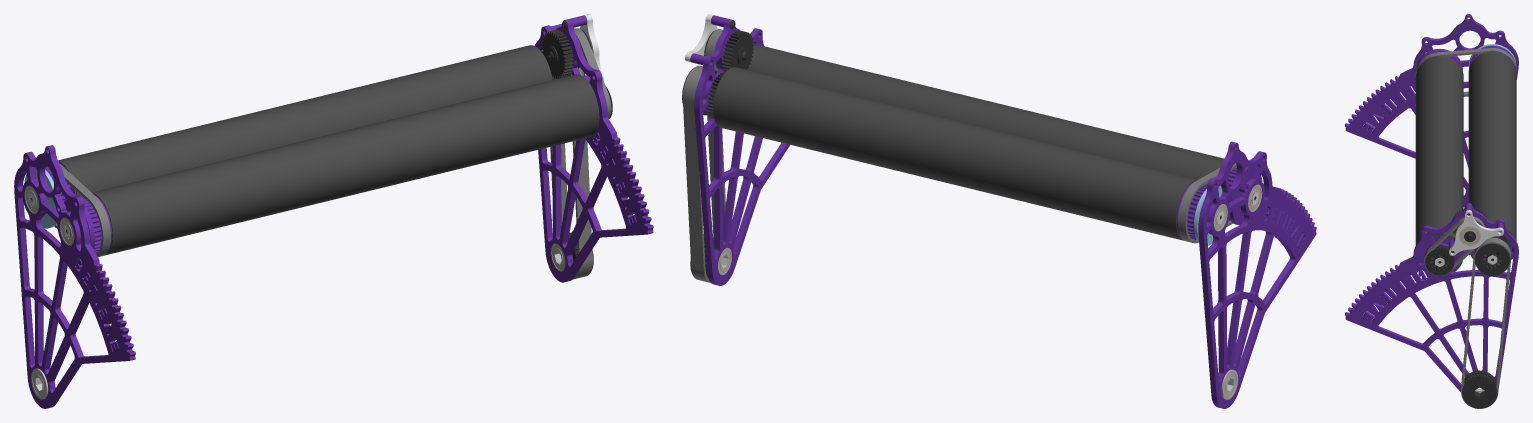
3 views of the same model, side by side, from view 1: azimuth 30°, elevation 25°; view 2: azimuth 150°, elevation 25°; view 3: azimuth 270°, elevation 25° (orthographic). The views are drawn at different scales.
Visible parts, largest first — view 1: WCP-1279 (×2), 0403 - Hood Right (×2), 0410 - Belt 100T, 36t Steel Spur Gear (20 DP, 1/2" Hex Bore), 0410 - Belt 64t P36, 36t Custom HTD 5mm Pulley (0.63" Wide, 1/2" Hex Bore w/ WCP , 0410 - Belt 45t; view 2: WCP-1279 (×2), 0403 - Hood Right (×2), 0410 - Belt 100T, 36t Steel Spur Gear (20 DP, 1/2" Hex Bore), 0410 - Belt 64t P36, 36t Custom HTD 5mm Pulley (0.63" Wide, 1/2" Hex Bore w/ WCP ; view 3: WCP-1279 (×2), 0403 - Hood Right (×2), 27t Custom HTD 5mm Pulley (0.63" Wide, 1/2" Hex Bore w/ WCP  (×2), 0410 - Belt 100T, Part 3, 22t Custom HTD 5mm Pulley (0.375" Wide, 1/2" Hex Bore w/ WCP, 0410 - Belt 64t P36, 0410 - Belt 45t, 24t Custom HTD 5mm Pulley (0.375" Wide, 1/2" Hex Bore w/ TTB, 1/2" Hex Bore Bearing (1.125" OD, 0.313" WD, Shielded, Flang, 36t Custom HTD 5mm Pulley (0.63" Wide, 1/2" Hex Bore w/ WCP .
Part boxes in pixels (x1,y1,x2,y2): WCP-1279 (×2): (58, 45, 599, 255); 0403 - Hood Right (×2): (14, 18, 653, 408); 0410 - Belt 100T: (550, 67, 592, 279); 36t Steel Spur Gear (20 DP, 1/2" Hex Bore): (541, 29, 573, 78); 0410 - Belt 64t P36: (46, 164, 110, 257); 36t Custom HTD 5mm Pulley (0.63" Wide, 1/2" Hex Bore w/ WCP : (63, 195, 112, 253); 0410 - Belt 45t: (574, 28, 611, 118); WCP-1279 (×2): (713, 45, 1223, 240); 0403 - Hood Right (×2): (694, 18, 1316, 408); 0410 - Belt 100T: (682, 65, 725, 282); 36t Steel Spur Gear (20 DP, 1/2" Hex Bore): (722, 30, 753, 72); 0410 - Belt 64t P36: (1178, 163, 1236, 243); 36t Custom HTD 5mm Pulley (0.63" Wide, 1/2" Hex Bore w/ WCP : (1220, 167, 1262, 225); WCP-1279 (×2): (1415, 51, 1516, 271); 0403 - Hood Right (×2): (1345, 14, 1518, 391); 27t Custom HTD 5mm Pulley (0.63" Wide, 1/2" Hex Bore w/ WCP  (×2): (1462, 243, 1510, 408); 0410 - Belt 100T: (1461, 237, 1510, 408); Part 3: (1449, 210, 1503, 255); 22t Custom HTD 5mm Pulley (0.375" Wide, 1/2" Hex Bore w/ WCP: (1425, 245, 1454, 275); 0410 - Belt 64t P36: (1415, 48, 1516, 96); 0410 - Belt 45t: (1424, 216, 1484, 275); 24t Custom HTD 5mm Pulley (0.375" Wide, 1/2" Hex Bore w/ TTB: (1418, 234, 1460, 271); 1/2" Hex Bore Bearing (1.125" OD, 0.313" WD, Shielded, Flang: (1459, 226, 1480, 246); 36t Custom HTD 5mm Pulley (0.63" Wide, 1/2" Hex Bore w/ WCP : (1417, 48, 1462, 71).
Size of the model in its own units: 0.6236 by 0.2896 by 0.2299.
